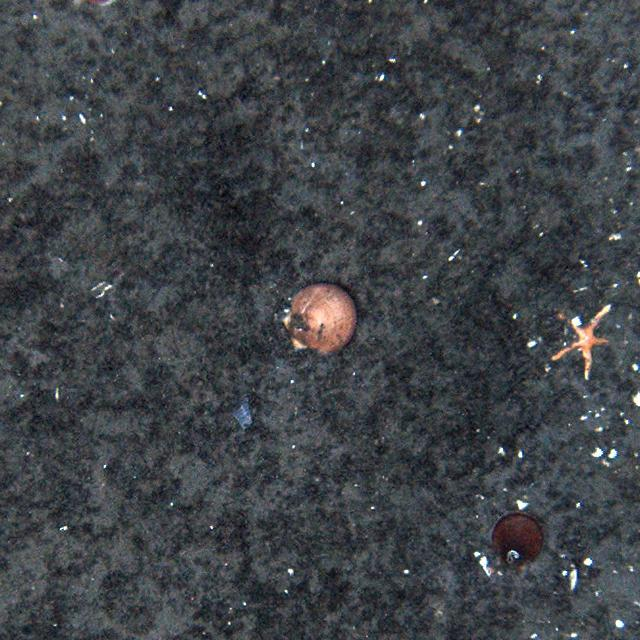scallop: (288, 280, 359, 352), (484, 513, 544, 569)
